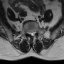CCS_stenosis: (31, 30, 33, 38)
LFS_normal: (34, 28, 36, 35)
LLS_normal: (33, 30, 35, 36)
RFS_stenosis: (28, 29, 30, 35)
RLS_normal: (30, 30, 31, 37)
